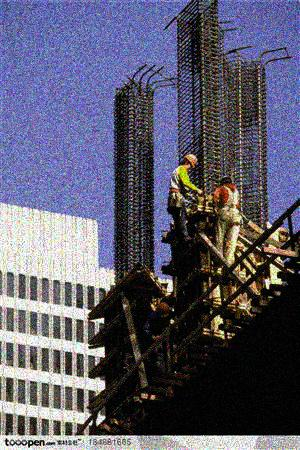helmet: (179, 151, 198, 170), (155, 300, 171, 318)
